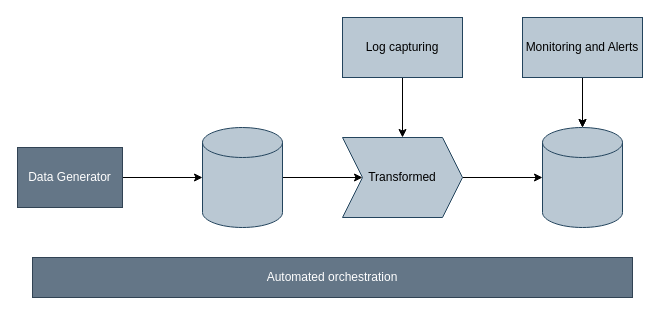
Some shapes in this 660 by 315 pixel diagram are drawn without their labels. The shapes that lost their labels are listed below. From the top down, each one's box as (x1, y1, x2, y2) in pixels, then its label:
(202, 126, 282, 228): Load
(542, 126, 622, 228): Load Data Warehouse
